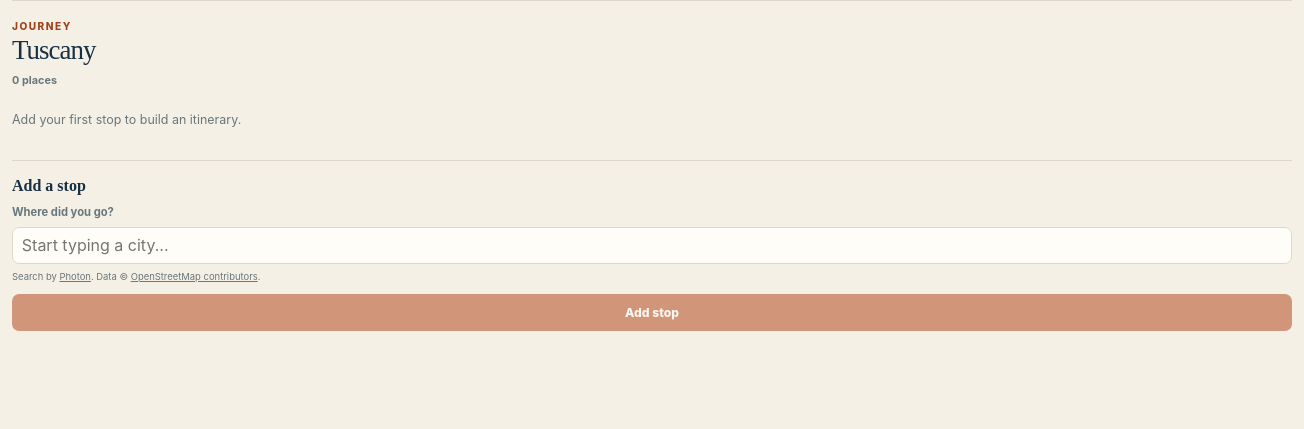
Scenario: Itinerary add stop › preserves the selected city after a failed add and allows retry
This screenshot has width=1304, height=429.
Type "Luc" into the dropdown. click: (652, 245)
box: [12,226,1292,264]
Wait 300 ms
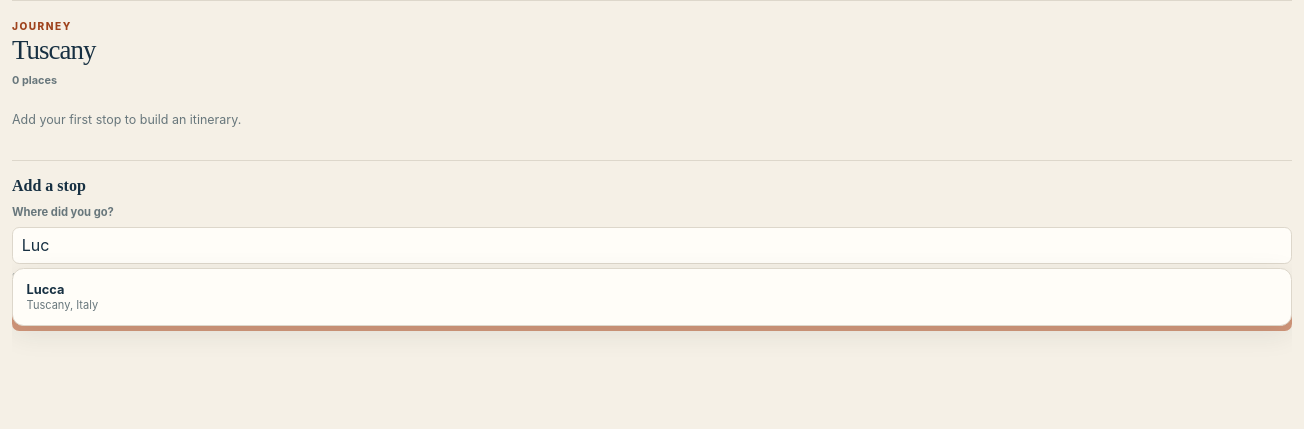
Click the option "Lucca Tuscany, Italy". click: (46, 289)
box: [17,273,1287,321]
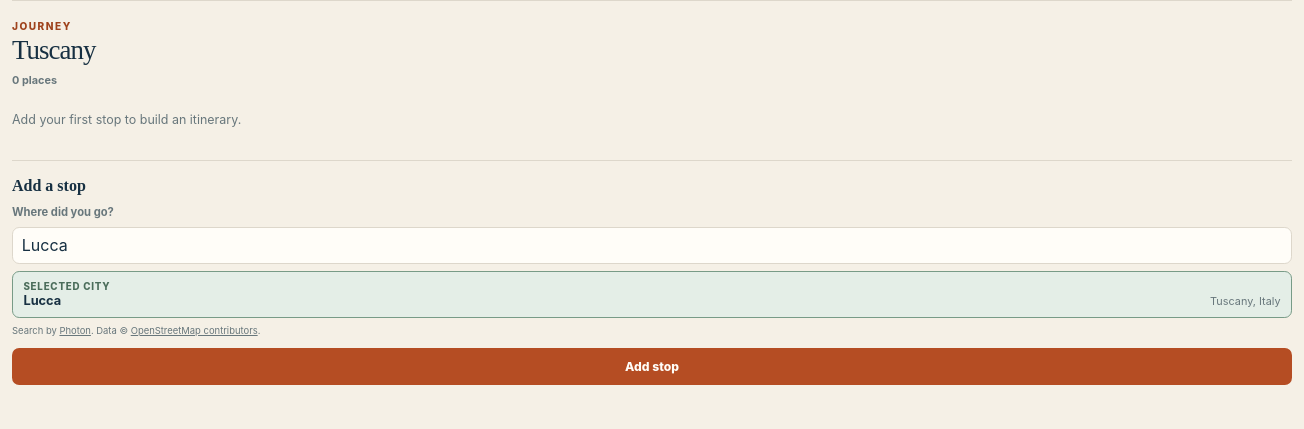
Click the button "Add stop". click: (652, 367)
box: [12,348,1292,385]
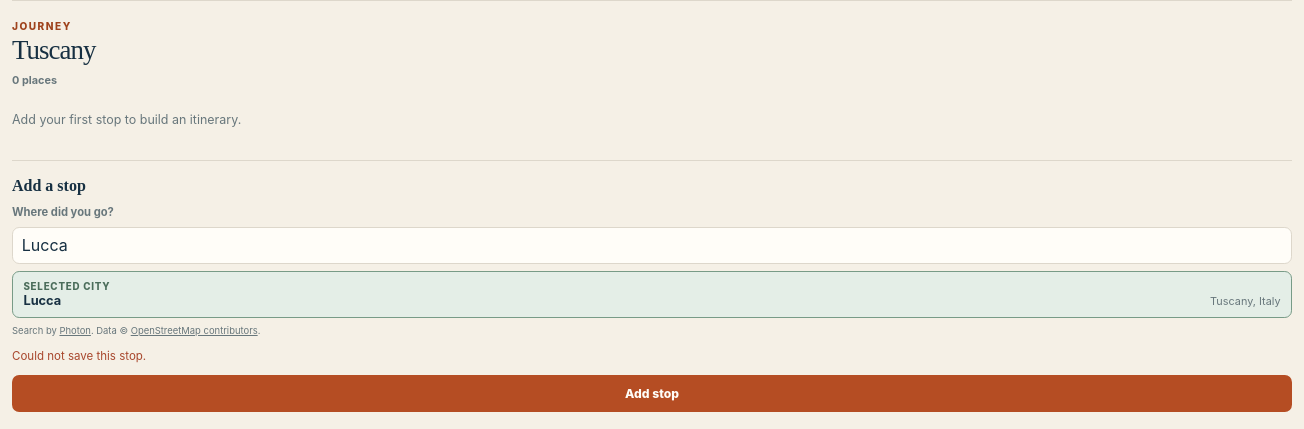
Check: the dropdown holds "Lucca", box [12,226,1292,264]
Check: the text "Selected city" is shown, box [23,281,110,292]
Check: the message "Could not save this stop." is shown, box [12,349,146,363]
Click the button "Add stop". click: (652, 393)
box: [12,375,1292,412]
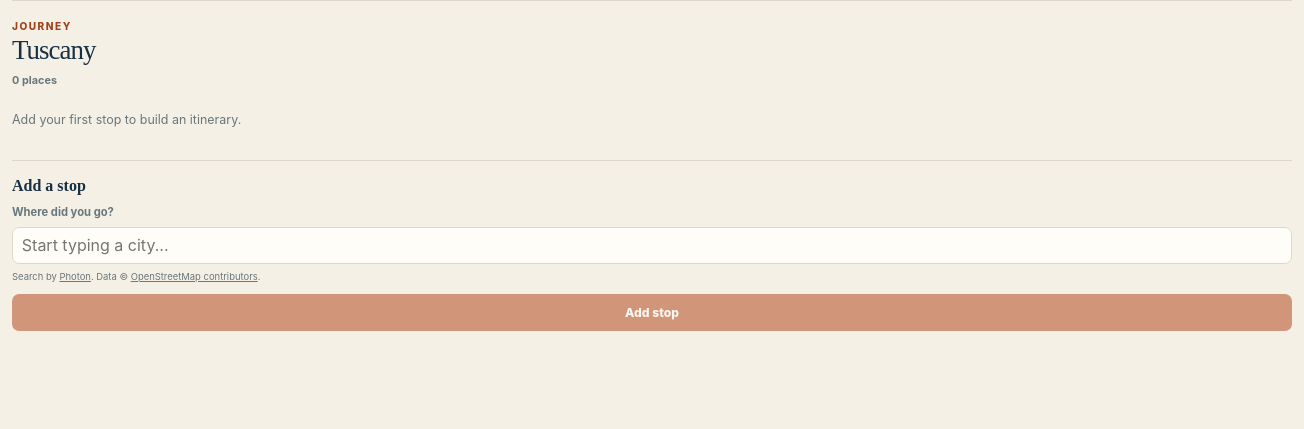
Check: the dropdown is empty, box [12,226,1292,264]
Check: the text "Selected city" is gone
